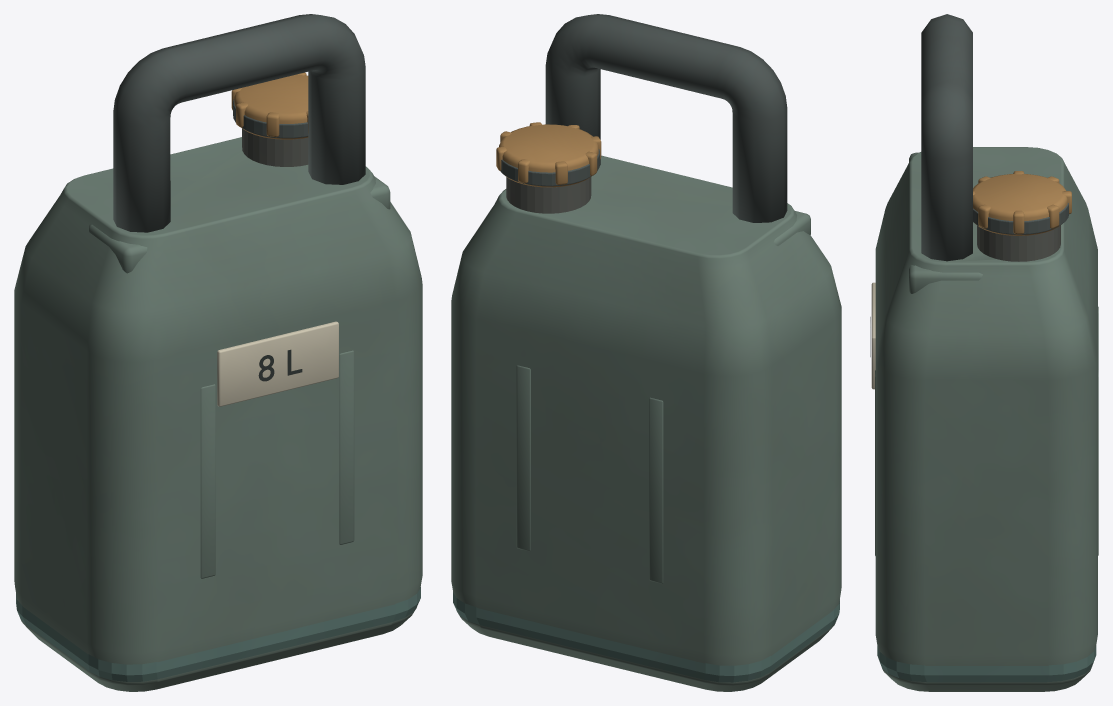
The model's file is NW11_WaterCan.fbx.
3 renders of one model, left to right at view 1: azimuth 30°, elevation 25°; view 2: azimuth 150°, elevation 25°; view 3: azimuth 270°, elevation 25°, orthographic. The views are drawn at different scales.
Parts seen in each view (by area): view 1: NW11_WaterCan_Mesh, NW11_WaterCan_Cap_Mesh; view 2: NW11_WaterCan_Mesh, NW11_WaterCan_Cap_Mesh; view 3: NW11_WaterCan_Mesh, NW11_WaterCan_Cap_Mesh.
Part boxes in pixels (<box>): NW11_WaterCan_Mesh: <box>14,14,422,691</box>; NW11_WaterCan_Cap_Mesh: <box>231,72,308,139</box>; NW11_WaterCan_Mesh: <box>451,14,841,691</box>; NW11_WaterCan_Cap_Mesh: <box>496,122,601,187</box>; NW11_WaterCan_Mesh: <box>870,14,1098,691</box>; NW11_WaterCan_Cap_Mesh: <box>973,171,1071,235</box>.
Size of the model in its own units: 0.29 by 0.512 by 0.1847.
